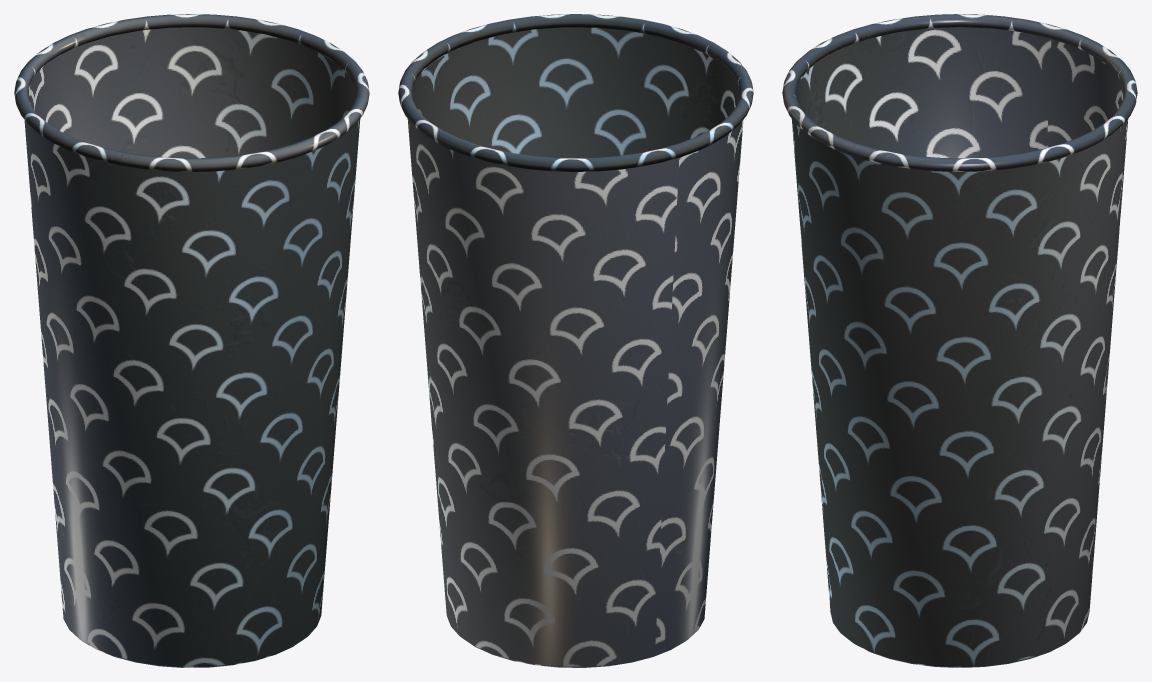
Rendered from tumbler3.fbx.
3 views of the same model, side by side, from view 1: azimuth 30°, elevation 25°; view 2: azimuth 150°, elevation 25°; view 3: azimuth 270°, elevation 25° (orthographic).
Parts seen in each view (by area): view 1: Circle; view 2: Circle; view 3: Circle.
Part boxes in pixels (x1=…): Circle: x1=14, y1=14, x2=369, y2=667; Circle: x1=398, y1=14, x2=753, y2=667; Circle: x1=782, y1=14, x2=1137, y2=667.
Size of the model in its own units: 275 by 450 by 275.
1 material, 1 textured.
